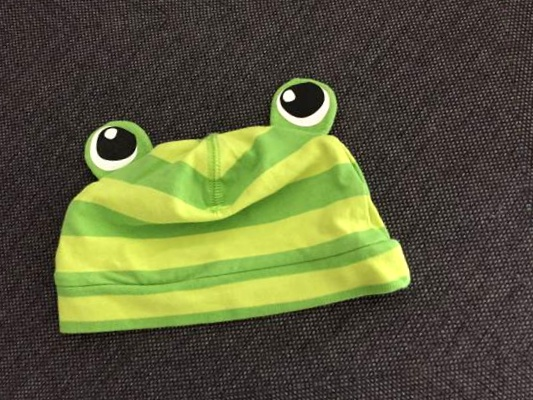Hat: (33, 66, 449, 349)
